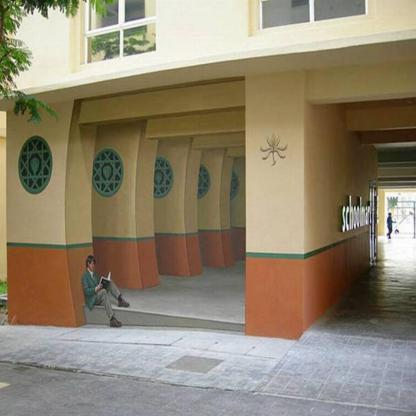face: (91, 262, 96, 272), (391, 214, 392, 216)
